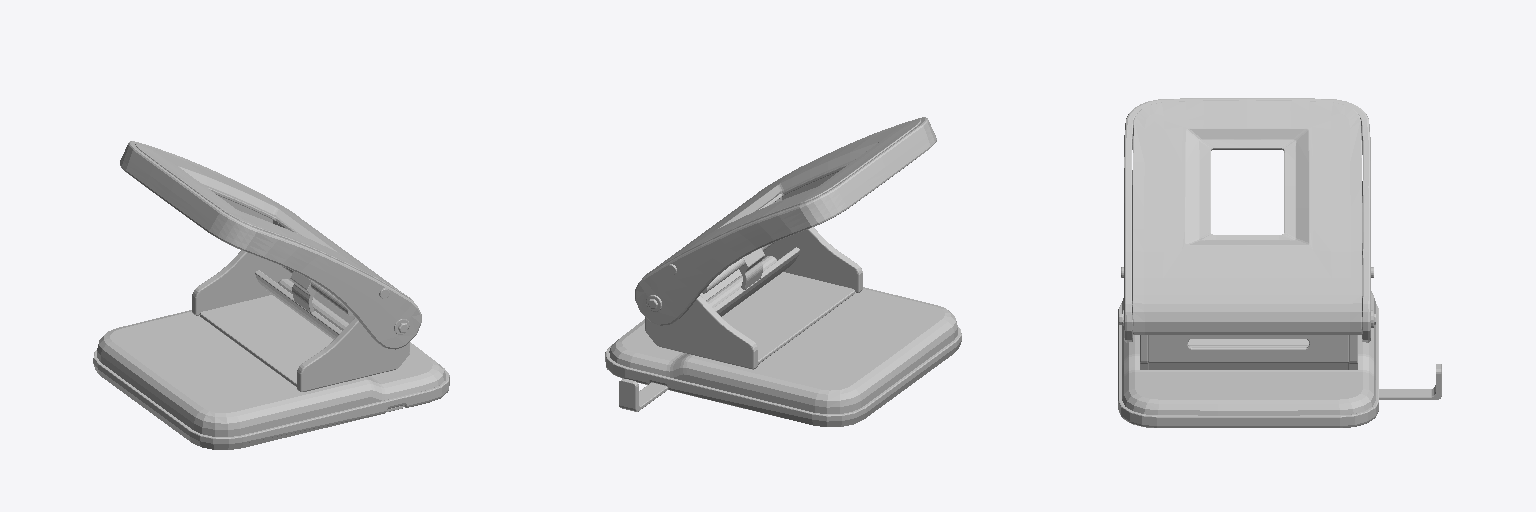
Rendered from PaperPunch.obj.
The picture shows the model from 3 angles: view 1: azimuth 30°, elevation 25°; view 2: azimuth 150°, elevation 25°; view 3: azimuth 270°, elevation 25°; orthographic projection.
Parts seen in each view (by area): view 1: C_PaperPunch_PLY; view 2: C_PaperPunch_PLY; view 3: C_PaperPunch_PLY.
Boxes of the visible parts, x1=… form: C_PaperPunch_PLY: x1=93, y1=141, x2=449, y2=449; C_PaperPunch_PLY: x1=605, y1=117, x2=961, y2=426; C_PaperPunch_PLY: x1=1118, y1=98, x2=1441, y2=427.
Bounding box in the file's own units: 14.31 × 11.94 × 15.7.